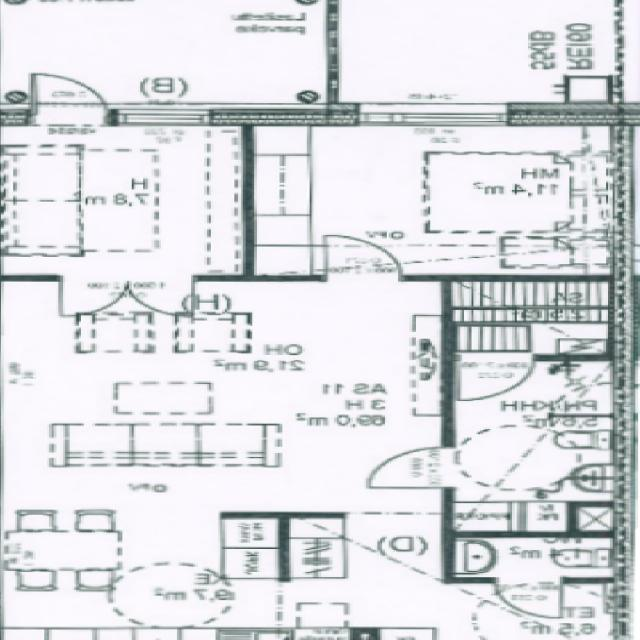door: (33, 71, 103, 125), (456, 355, 534, 401), (370, 448, 453, 488), (326, 236, 400, 280), (127, 275, 195, 316), (60, 275, 127, 316), (497, 577, 562, 617)
